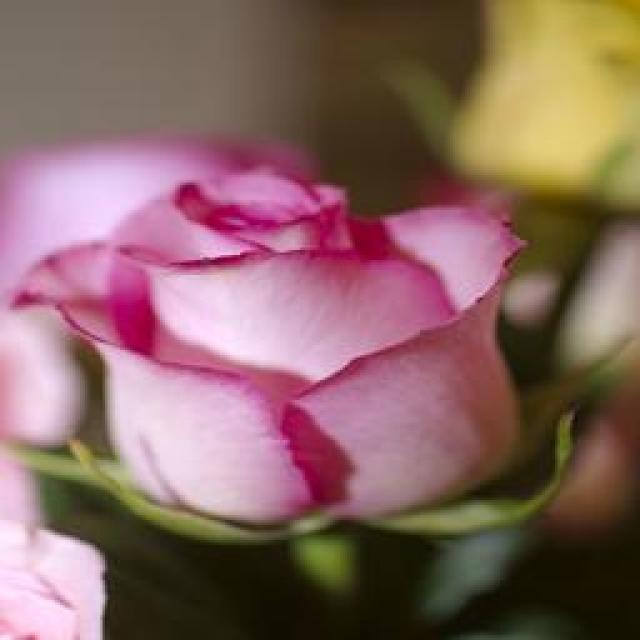rose: (11, 154, 594, 539)
